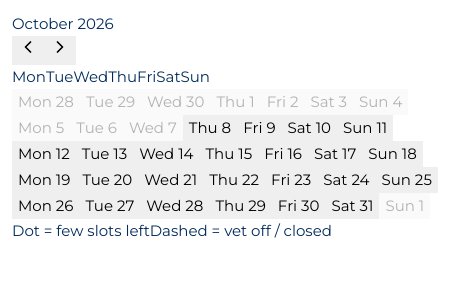
Test: MonthCalendar › navigates between months
Click the button named "Next month": (60, 50) [44,36,76,65]
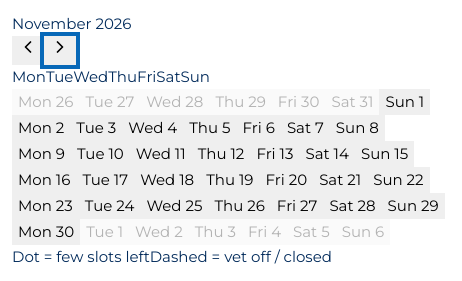
Check: the text "November 2026" is shown, box [12,14,132,33]
Click the button named "Previous month": (28, 50) [12,36,44,65]
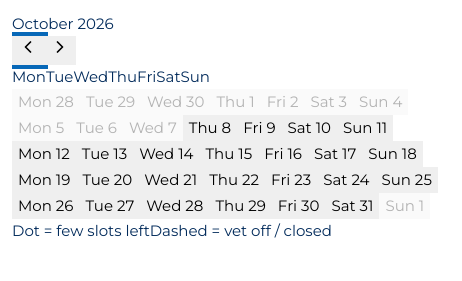
Click the button named "Previous month": (28, 50) [12,36,44,65]
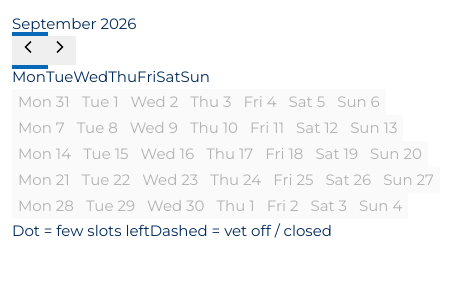
Check: the text "September 2026" is shown, box [12,14,136,33]
